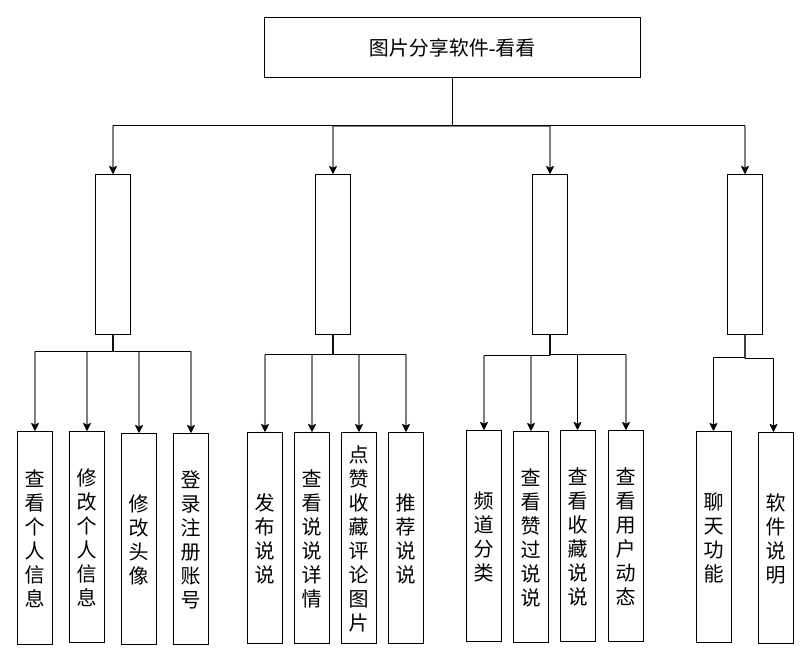
This 811x662 diagram has some shape labels left out. The centre of each missing label's shape, as x and y in pixels:
"其他" belongs at pixel 744 254.
"用户信息" belongs at pixel 112 254.
"说说" belongs at pixel 332 254.
"说说信息" belongs at pixel 550 254.
